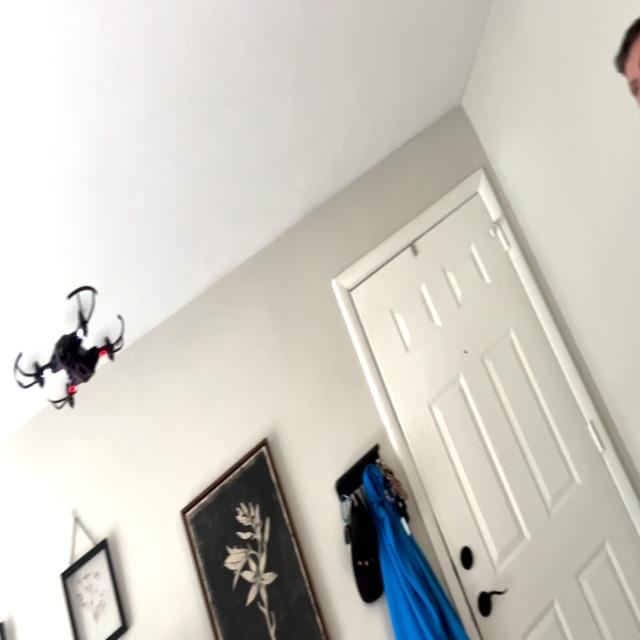drone: (8, 277, 132, 423)
